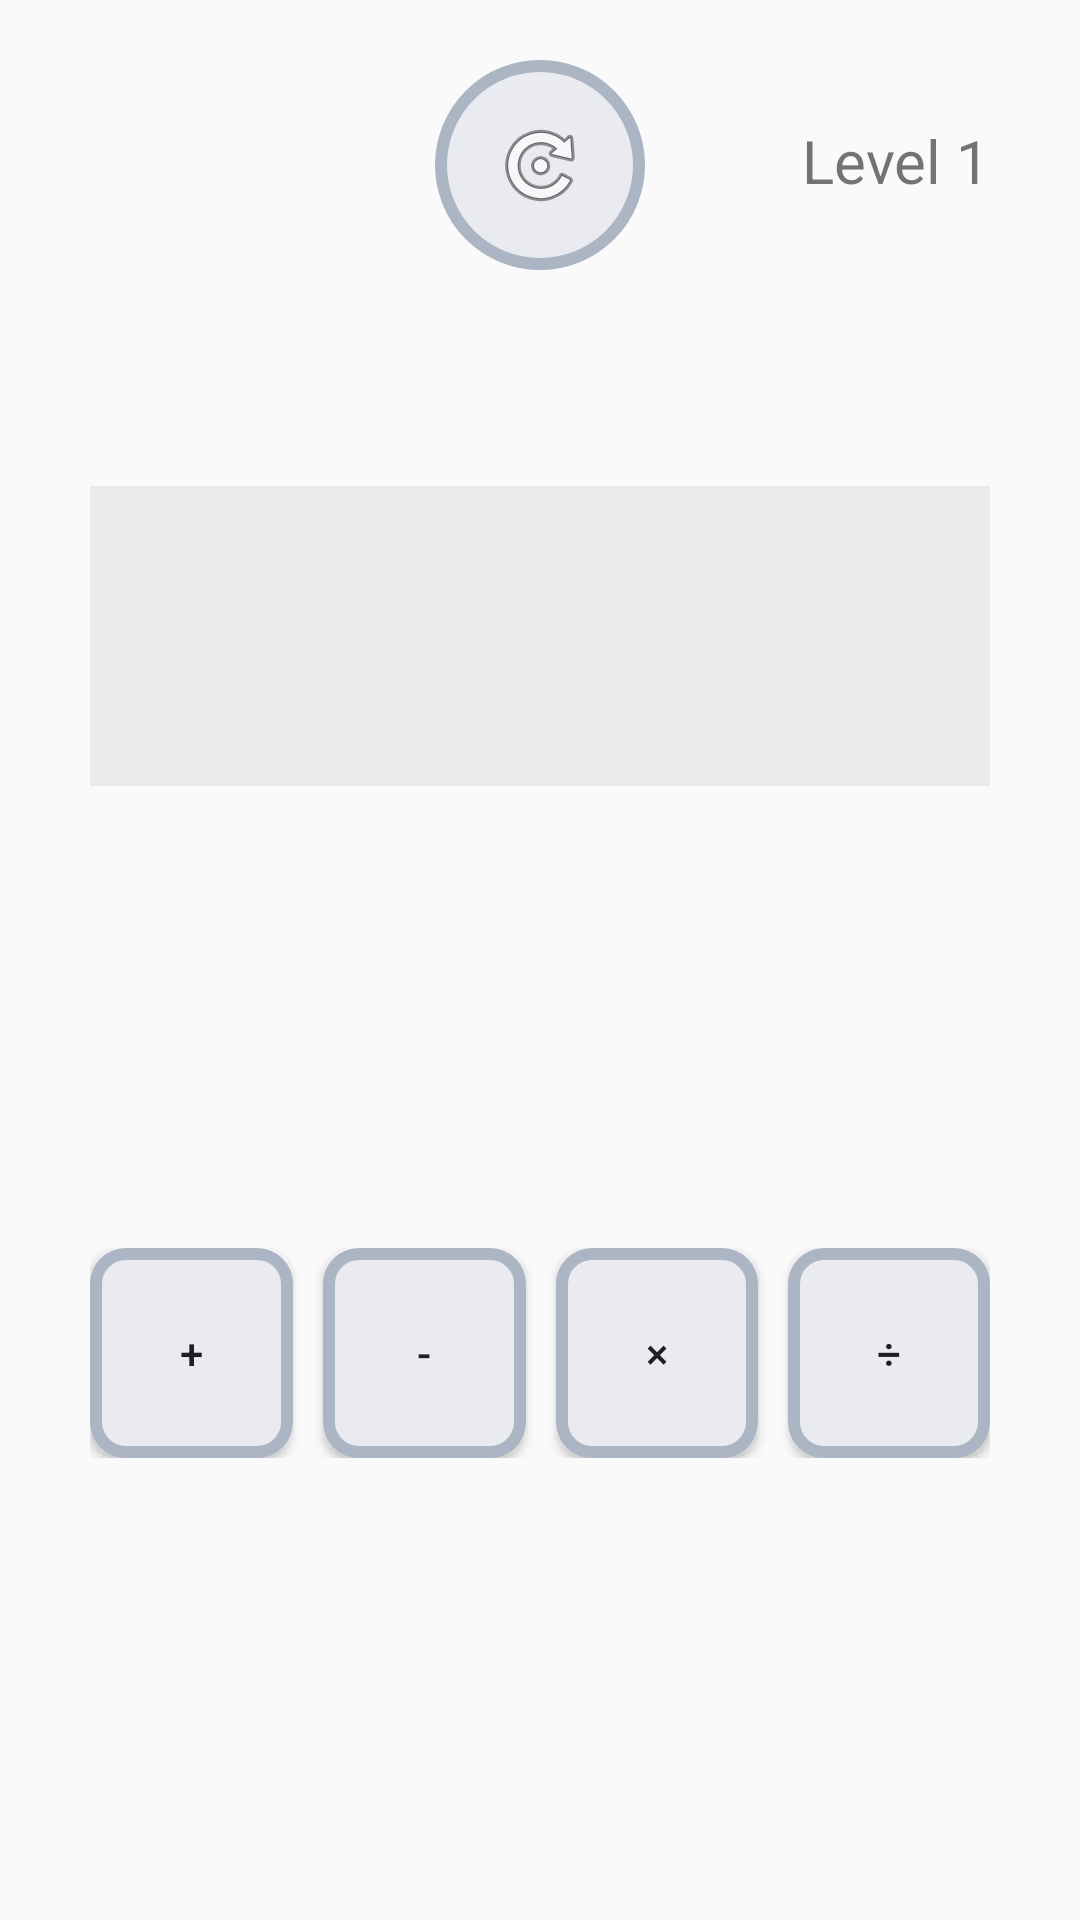

Where to tap for icons on this 1080 × 1920 app screen, as point (x, y):
rotate: point (540, 165)
